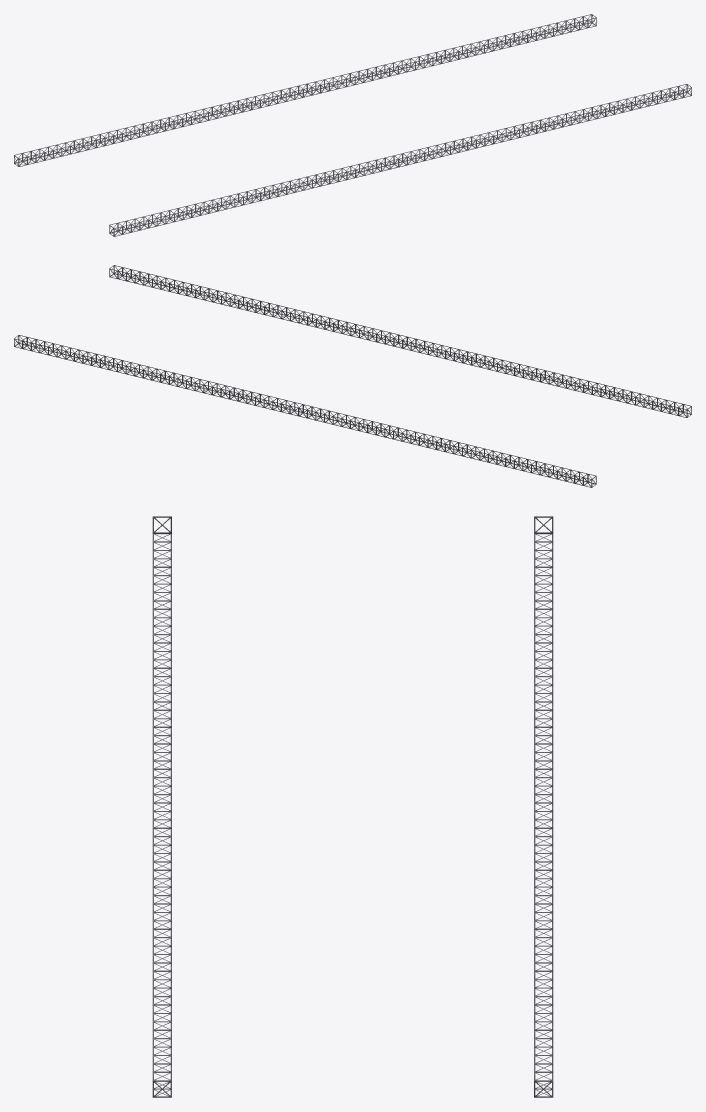
Rendered from sign05supports.fbx.
3 views of the same model, one above another, from view 1: azimuth 30°, elevation 25°; view 2: azimuth 150°, elevation 25°; view 3: azimuth 270°, elevation 25° (orthographic). The views are drawn at different scales.
Visible parts, largest first — view 1: mesh_0, mesh_1; view 2: mesh_1, mesh_0; view 3: mesh_1, mesh_0.
Part boxes in pixels (x1=…): mesh_0: x1=109, y1=84, x2=691, y2=236; mesh_1: x1=14, y1=14, x2=596, y2=166; mesh_1: x1=14, y1=335, x2=596, y2=487; mesh_0: x1=109, y1=265, x2=691, y2=417; mesh_1: x1=534, y1=516, x2=553, y2=1097; mesh_0: x1=152, y1=516, x2=171, y2=1097.
Bounding box in the file's own units: 2800 × 40 × 840.
Materials: 1 (1 with a texture image).
